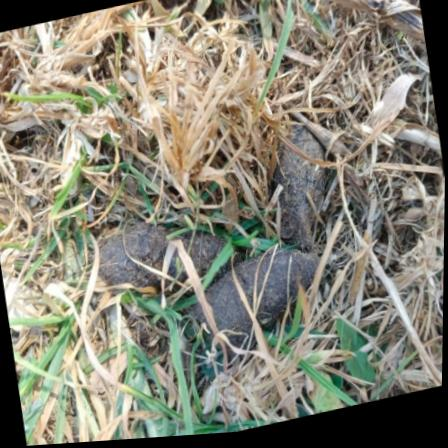dog-poop: (68, 112, 362, 397)
